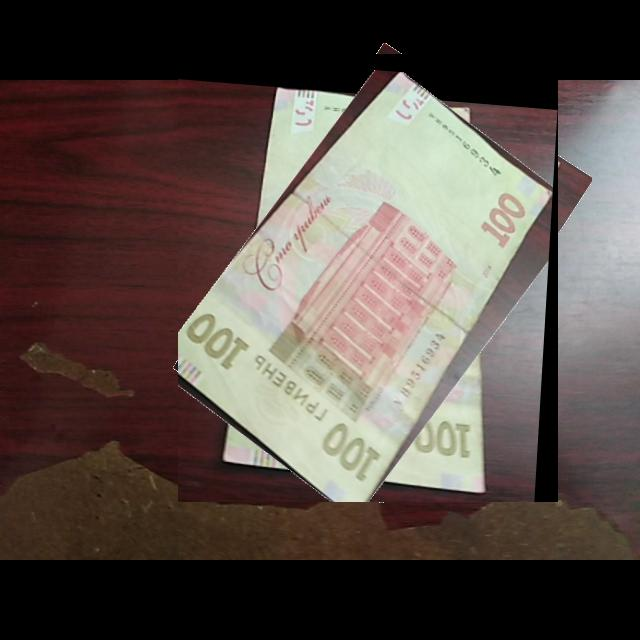100uah: (178, 69, 555, 503)
